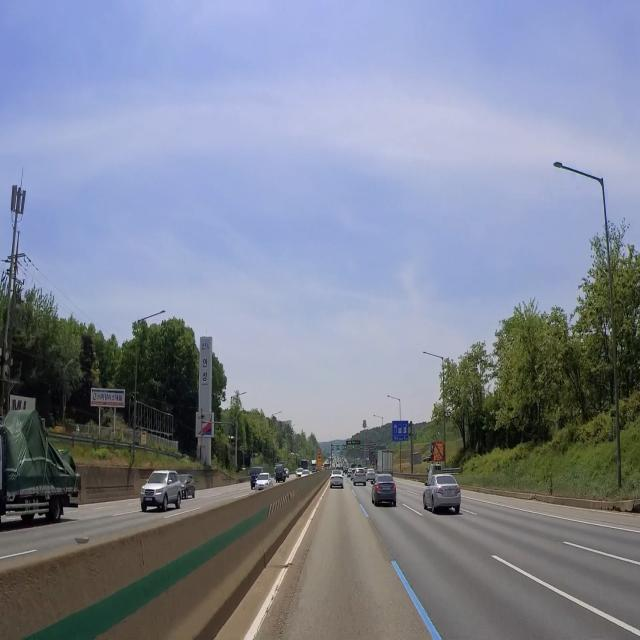car: (142, 494, 155, 506), (381, 485, 392, 494), (445, 490, 456, 497), (333, 478, 340, 487), (357, 473, 363, 481), (253, 479, 257, 486), (369, 474, 374, 478)
